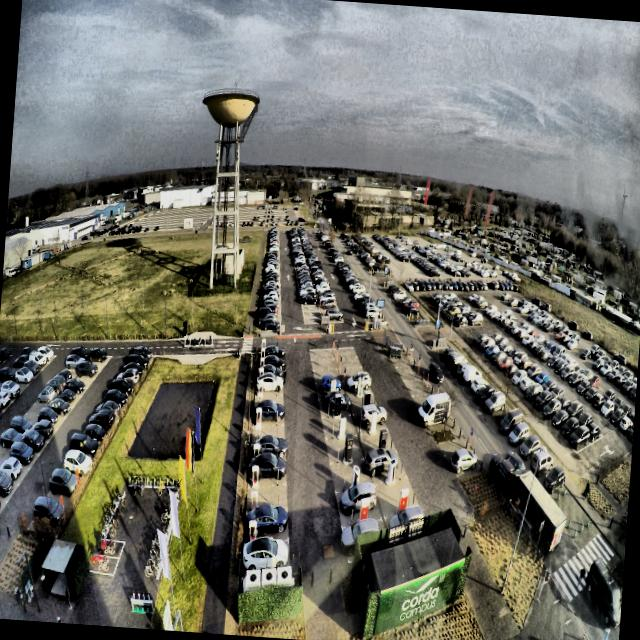cabinet: (246, 566, 291, 585)
car: (241, 536, 289, 572), (244, 501, 288, 540), (250, 453, 287, 478), (251, 398, 285, 425), (253, 434, 288, 458), (256, 372, 283, 393), (259, 354, 286, 370), (263, 343, 286, 359), (256, 364, 283, 375)
parking: (242, 539, 289, 579), (244, 509, 288, 544), (246, 483, 287, 513), (248, 461, 286, 487), (249, 441, 285, 465), (251, 424, 284, 444), (252, 408, 283, 427), (255, 379, 282, 397), (254, 395, 283, 410), (256, 367, 282, 383), (258, 349, 282, 360), (257, 358, 282, 368)
supercharger: (248, 521, 257, 544), (251, 492, 258, 513), (253, 444, 260, 460), (252, 465, 258, 481), (255, 426, 261, 442), (256, 409, 261, 426), (257, 393, 262, 409), (258, 380, 263, 394), (261, 339, 266, 348), (260, 349, 265, 358), (259, 368, 263, 379), (260, 357, 264, 366)
